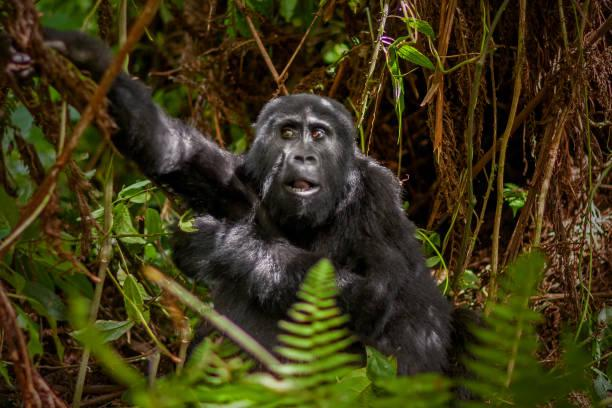goriile_montagne: (107, 44, 496, 388)
